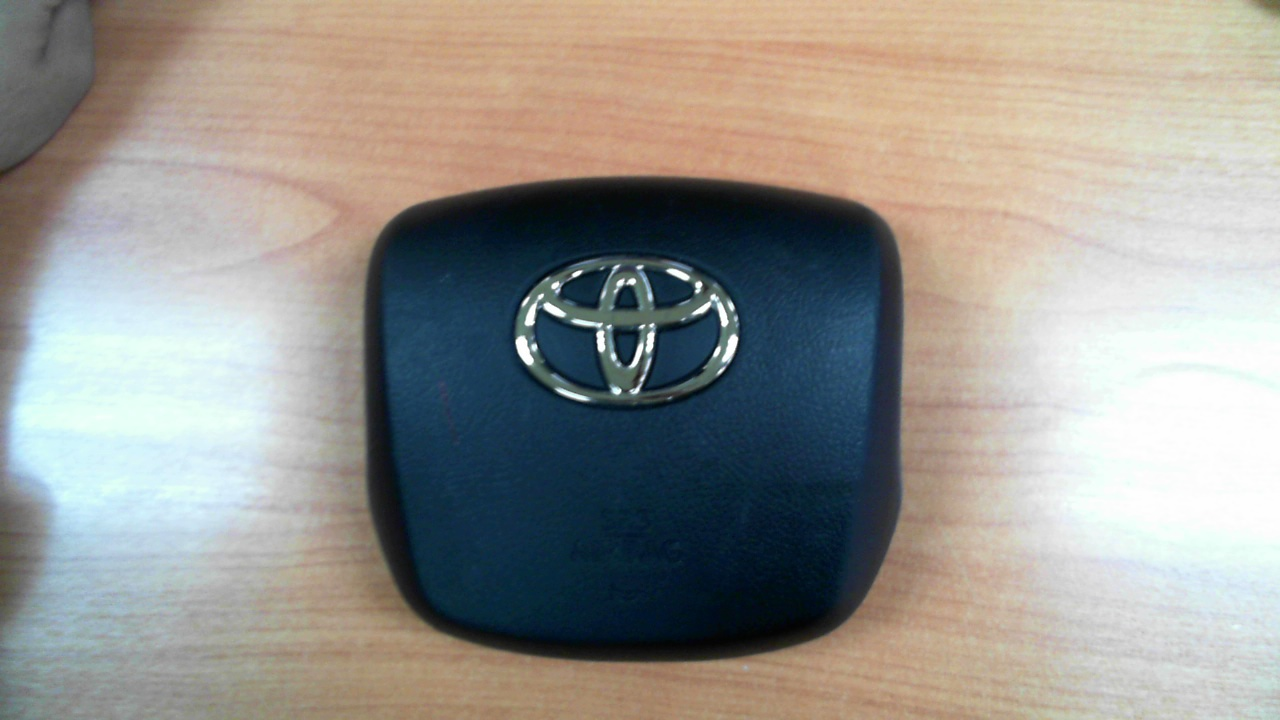Airbag: (357, 173, 907, 655)
Toyota: (514, 254, 740, 406)
